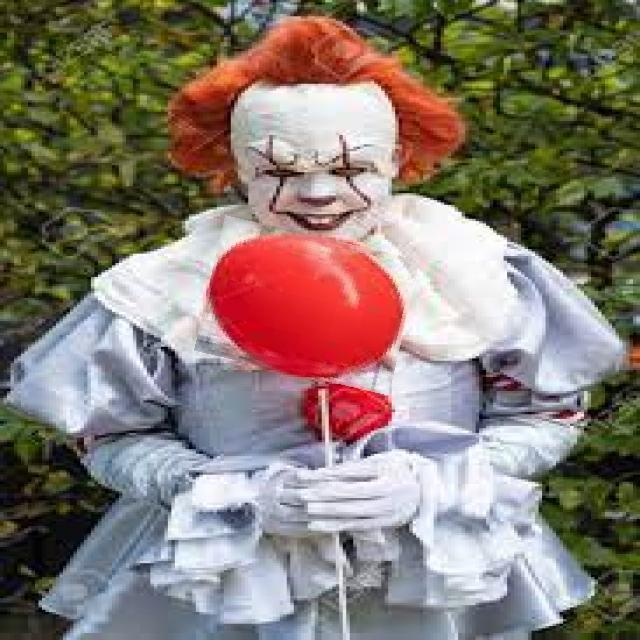balloon: (201, 226, 413, 385)
